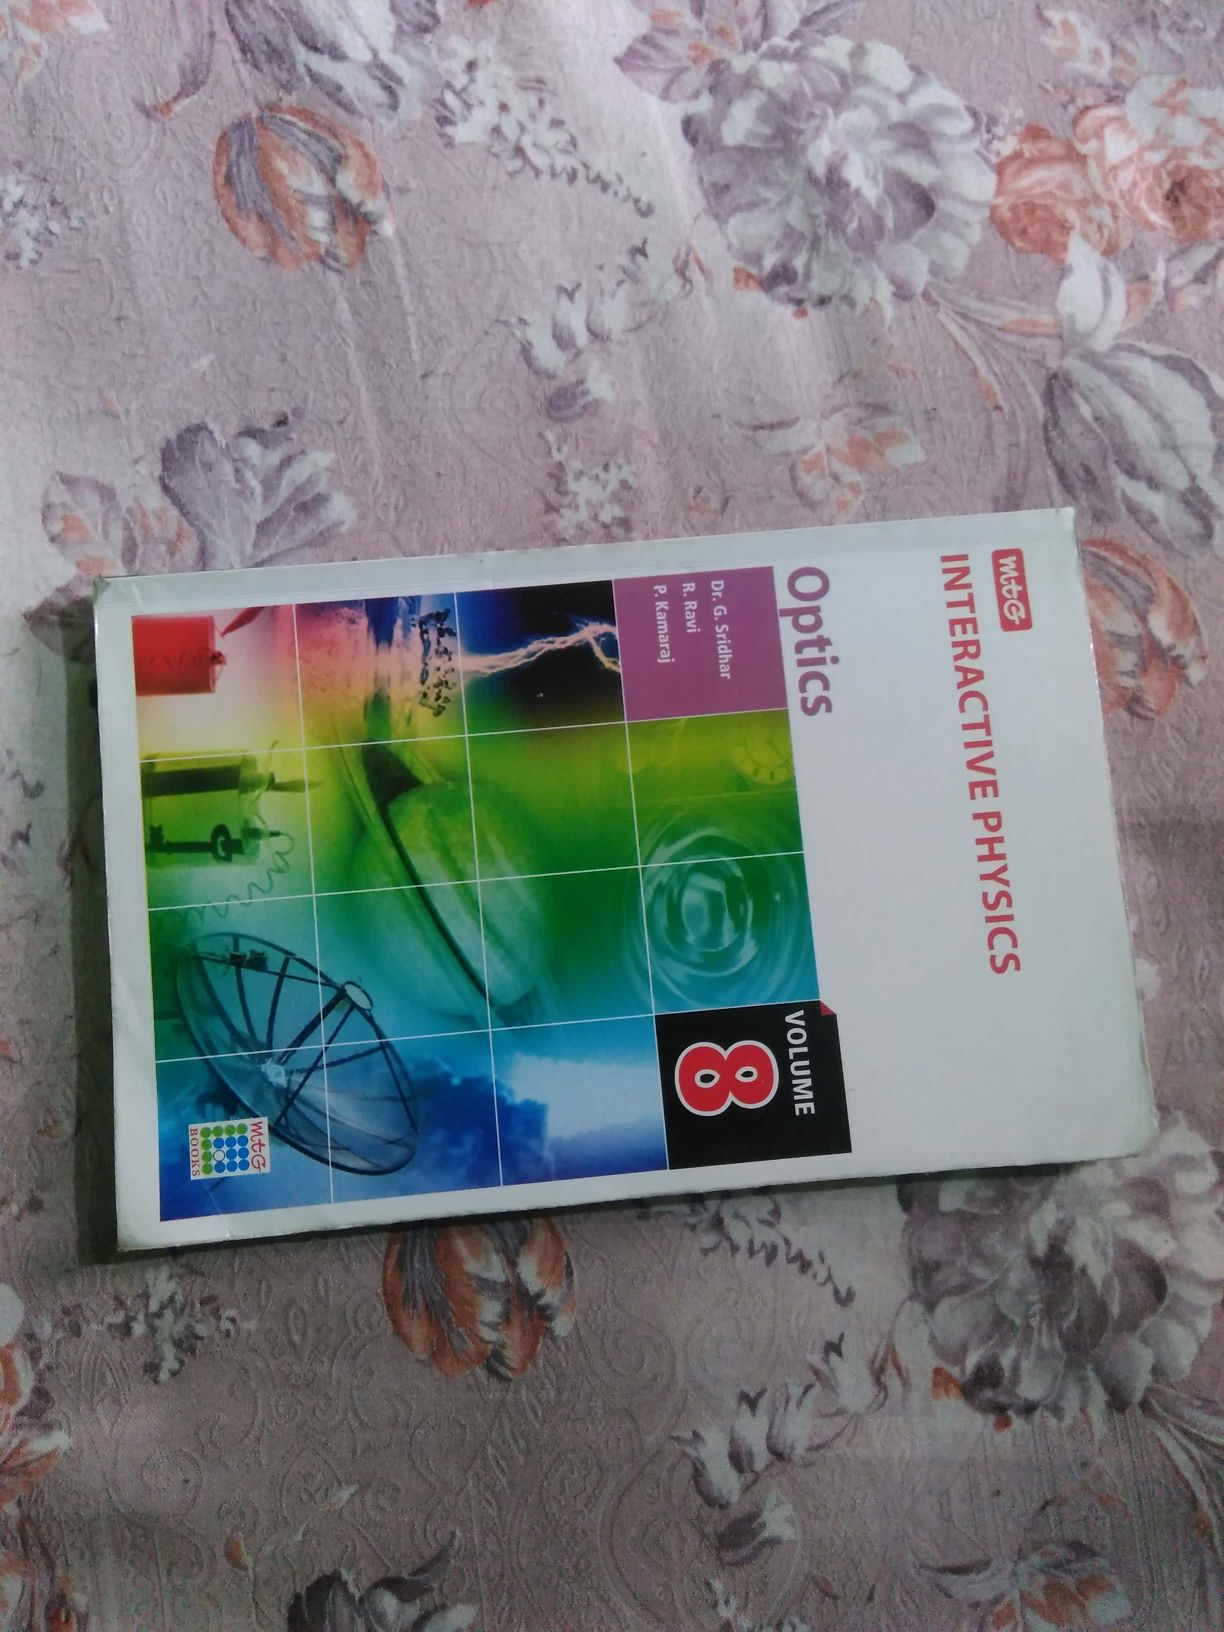optics: (53, 504, 1161, 1261)
